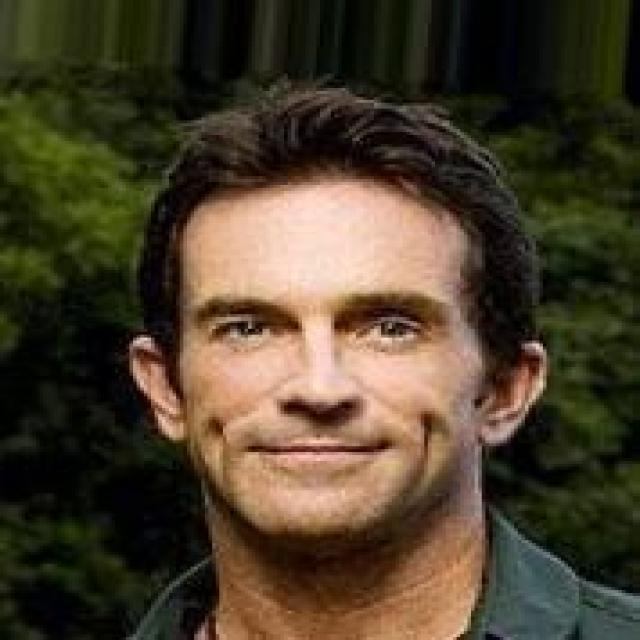bareface: (120, 100, 557, 518)
